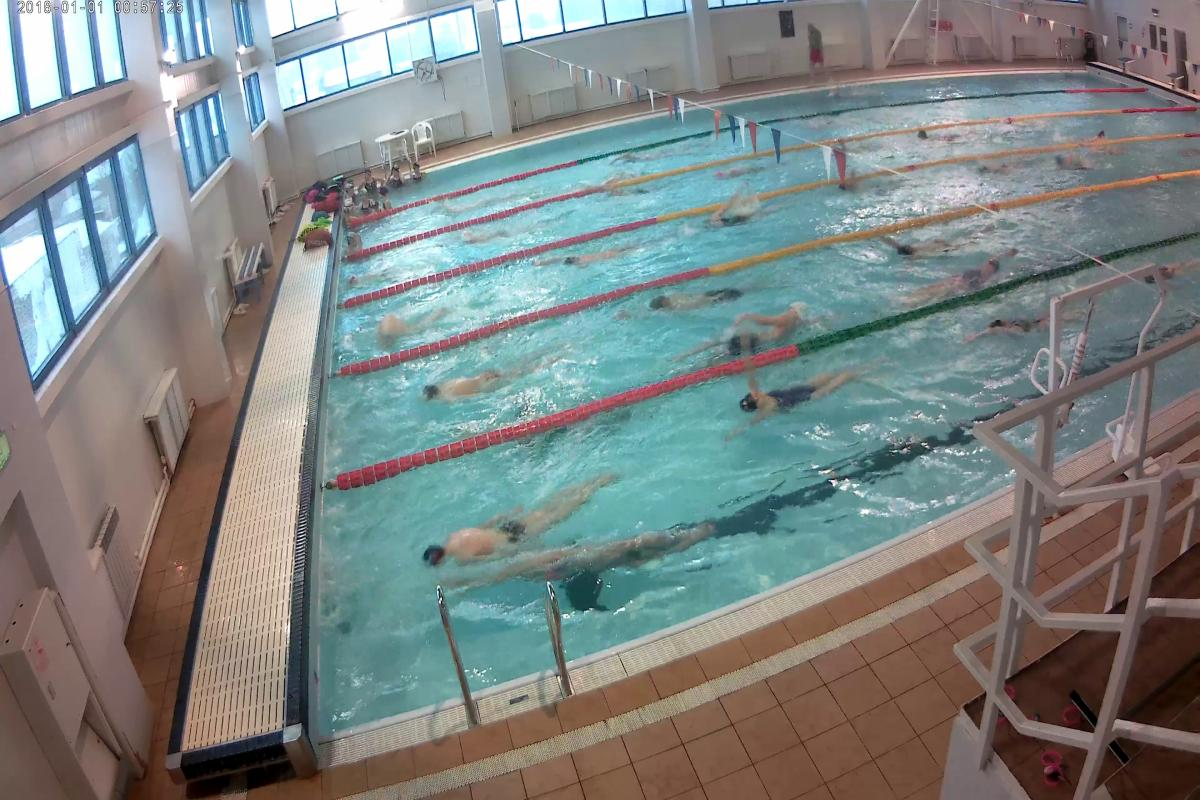swimmer: (424, 470, 610, 571), (715, 364, 864, 443), (417, 357, 522, 415), (635, 280, 752, 323), (726, 300, 810, 357), (920, 252, 1011, 298), (372, 300, 446, 350), (551, 239, 630, 276), (693, 201, 762, 232), (911, 118, 981, 142), (980, 312, 1045, 335), (1046, 147, 1090, 176)
